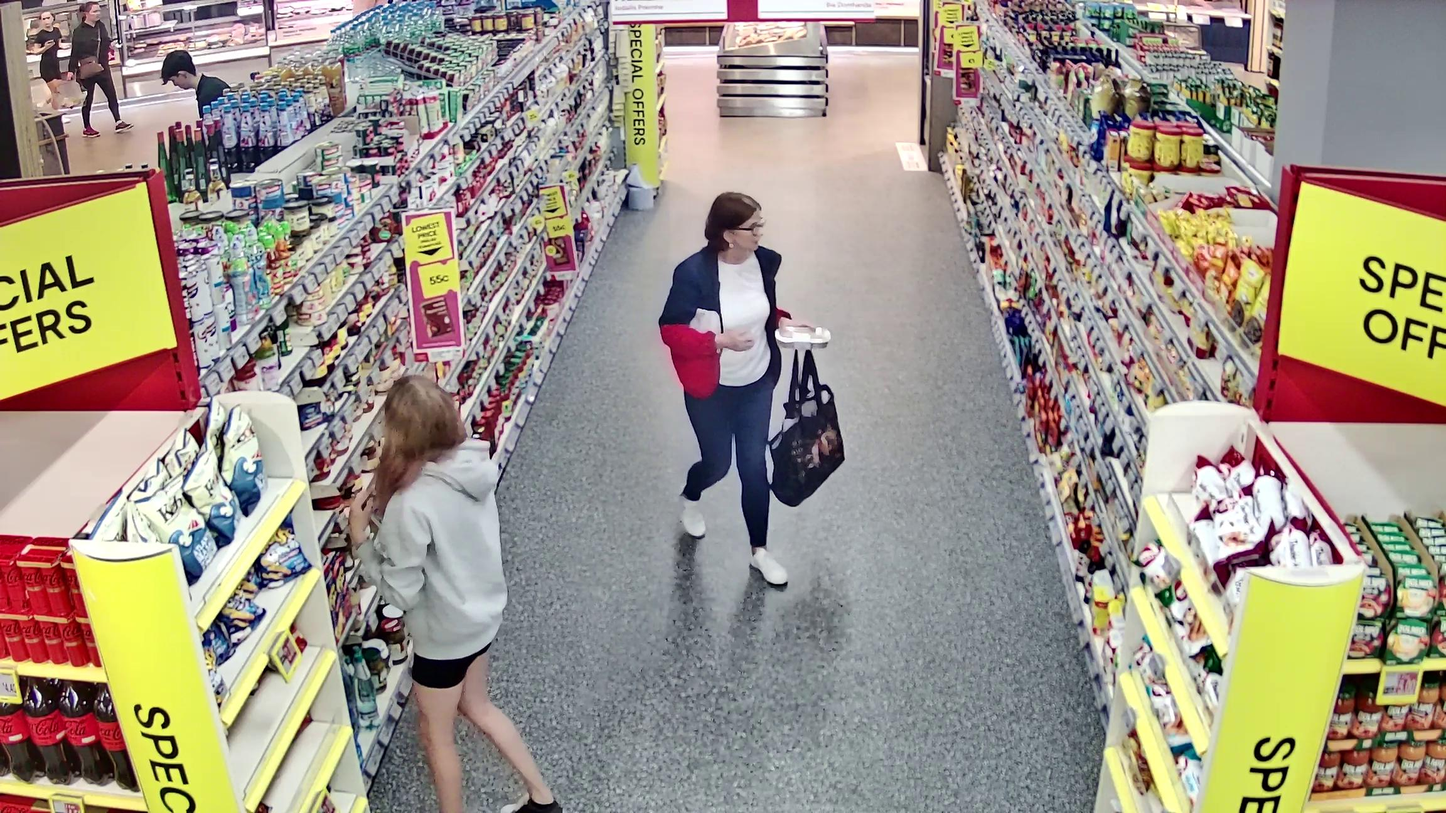carrying-item: (771, 320, 831, 352)
filled-shopping-bags: (770, 375, 847, 509)
person: (658, 189, 813, 588)
person with carrying item-s- and shopping bag-s-: (658, 189, 847, 586)
